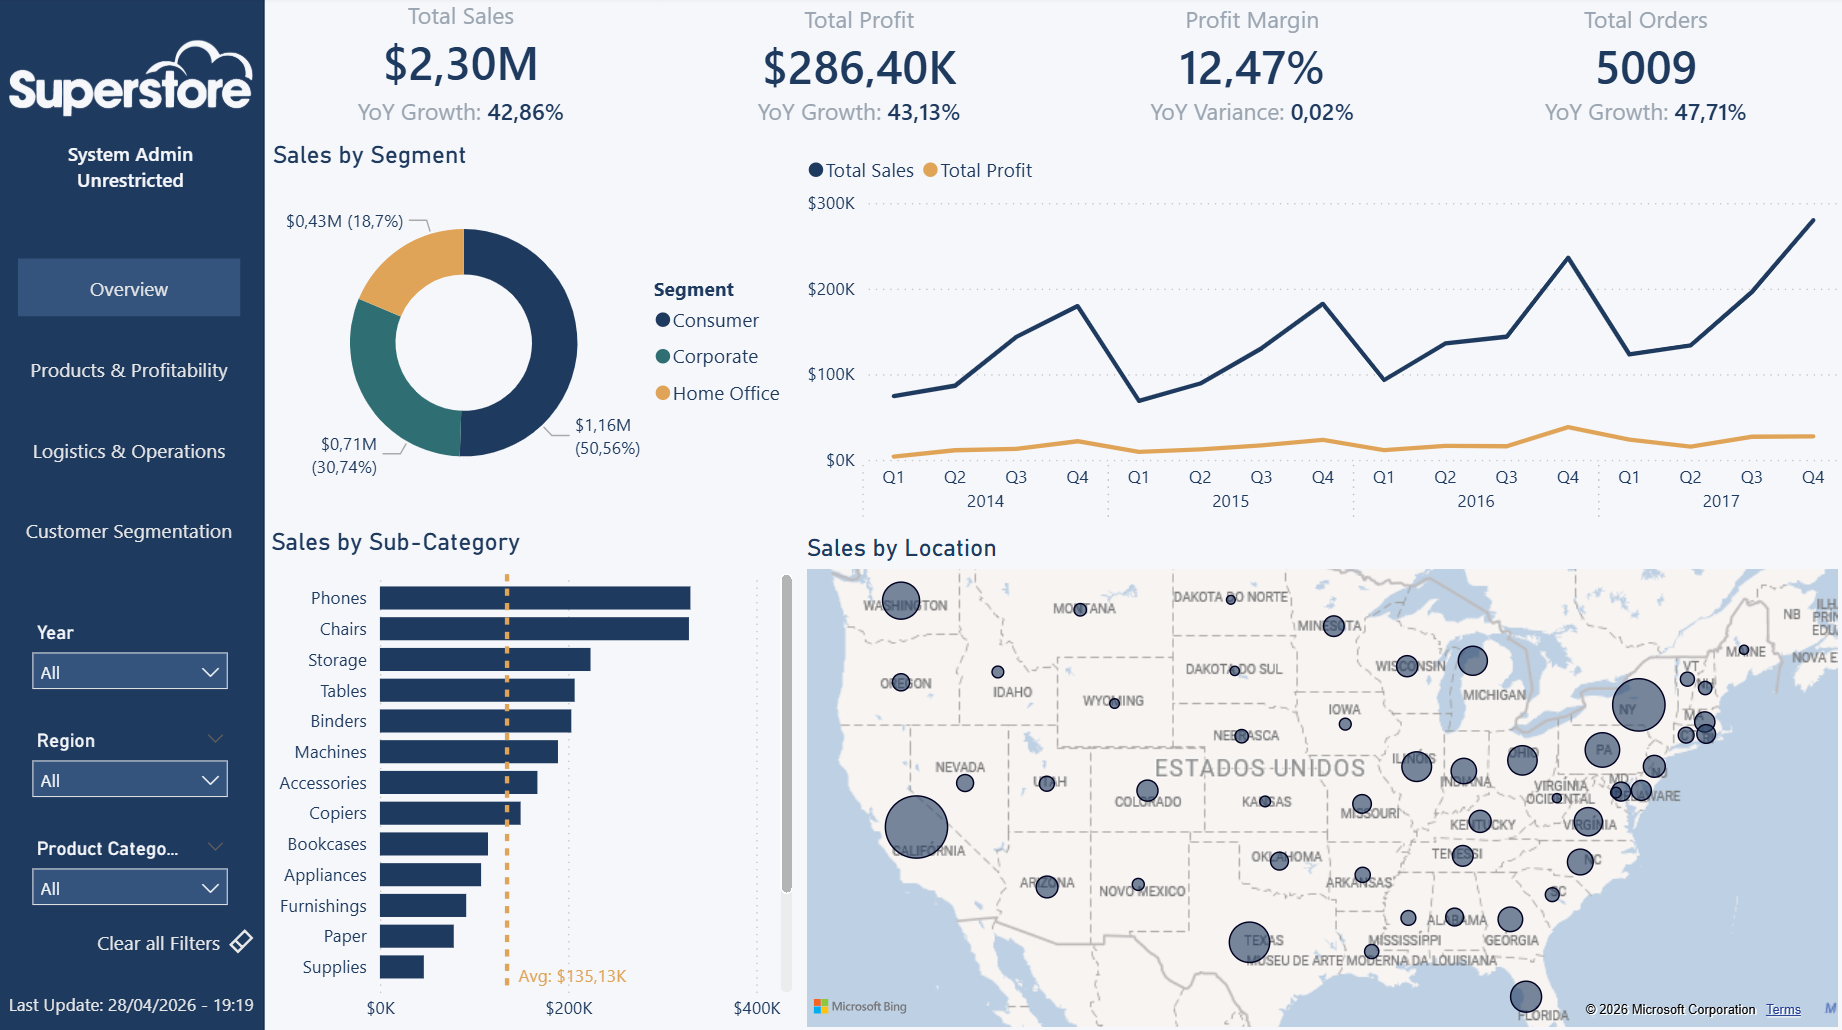

What the dashboard file says about the page in this screenshot:
{"tool":"powerbi","page":{"name":"Overview","canvas":[1280,720],"ordinal":0},"visuals":[{"type":"cardVisual","title":"Total Sales","fields":{"Data":["_Measures.Total Sales"]},"box":[185.4,0,273,127.5],"z":0},{"type":"cardVisual","fields":{"Data":["_Measures.Total Orders"]},"box":[1006.6,0,273.9,127.8],"z":1000},{"type":"cardVisual","fields":{"Data":["_Measures.Profit Margin %"]},"box":[733.9,0,272.6,127.8],"z":2000},{"type":"cardVisual","fields":{"Data":["_Measures.Total Profit"]},"box":[461.3,0,272.6,127.8],"z":3000},{"type":"lineChart","title":"Total Sales and Profit by Year","fields":{"Y":["_Measures.Total Sales","_Measures.Total Profit"],"Category":["dim_order_dates.Order Date Hierarchy.Year","dim_order_dates.Order Date Hierarchy.Quarter","dim_order_dates.Order Date Hierarchy.Month Name"]},"box":[556.2,99.7,724.2,272.3],"z":4000},{"type":"clusteredBarChart","title":"Sales by Sub-Category","fields":{"Y":["_Measures.Total Sales"],"Category":["dim_products.Sub-Category"]},"box":[185.4,368.5,370.8,351.1],"z":5000},{"type":"map","title":"Sales by Location","fields":{"Size":["_Measures.Total Sales"],"Category":["dim_geo_ship.Country","dim_geo_ship.State","dim_geo_ship.City Search String"]},"box":[556.2,372,724.2,347.6],"z":6000},{"type":"shape","box":[0,0,185.4,719.6],"z":7000},{"type":"donutChart","title":"Sales by Segment","fields":{"Category":["dim_customers.Segment"],"Y":["_Measures.Total Sales"]},"box":[186,99.8,371.1,260.9],"z":8000},{"type":"slicer","fields":{"Values":["dim_geo_ship.Region"]},"box":[14.6,503.3,155.3,60],"z":9000},{"type":"slicer","fields":{"Values":["dim_shipping_dates.Year"]},"box":[14.6,428.3,155.3,60],"z":10000},{"type":"slicer","fields":{"Values":["dim_products.Category"]},"box":[14.6,578.3,155.3,60],"z":11000},{"type":"image","box":[8.3,11.4,169.4,90.4],"z":12000},{"type":"cardVisual","fields":{"Data":["_Measures.Active User Territory"]},"box":[0,88.4,185,56.1],"z":13000},{"type":"actionButton","box":[65.5,641.4,119.5,28.1],"z":14000},{"type":"pageNavigator","box":[14.6,181.9,154.9,208.9],"z":15000},{"type":"cardVisual","fields":{"Data":["_Measures.Data Vintage"]},"box":[0,675.7,186.1,44.7],"z":16000}]}

Visuals, with their boxes on the page's 1280x720 design canvas (x1, y1, x2, y2). These are canvas units, not pixel positions in the 1842x1030 screenshot, which may show the page scaled, cropped or inside an application window:
"Total Sales" cardVisual: 185:0:458:128
cardVisual - _Measures.Total Orders: 1007:0:1280:128
cardVisual - _Measures.Profit Margin %: 734:0:1006:128
cardVisual - _Measures.Total Profit: 461:0:734:128
"Total Sales and Profit by Year" lineChart: 556:100:1280:372
"Sales by Sub-Category" clusteredBarChart: 185:368:556:720
"Sales by Location" map: 556:372:1280:720
shape: 0:0:185:720
"Sales by Segment" donutChart: 186:100:557:361
slicer - dim_geo_ship.Region: 15:503:170:563
slicer - dim_shipping_dates.Year: 15:428:170:488
slicer - dim_products.Category: 15:578:170:638
image: 8:11:178:102
cardVisual - _Measures.Active User Territory: 0:88:185:144
actionButton: 66:641:185:670
pageNavigator: 15:182:170:391
cardVisual - _Measures.Data Vintage: 0:676:186:720
